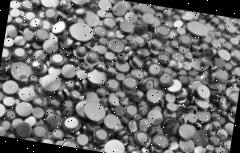electronic: (68, 18, 98, 42), (84, 67, 108, 92), (150, 22, 175, 44), (177, 31, 194, 49), (107, 36, 126, 52), (84, 50, 104, 64), (105, 76, 120, 94)
